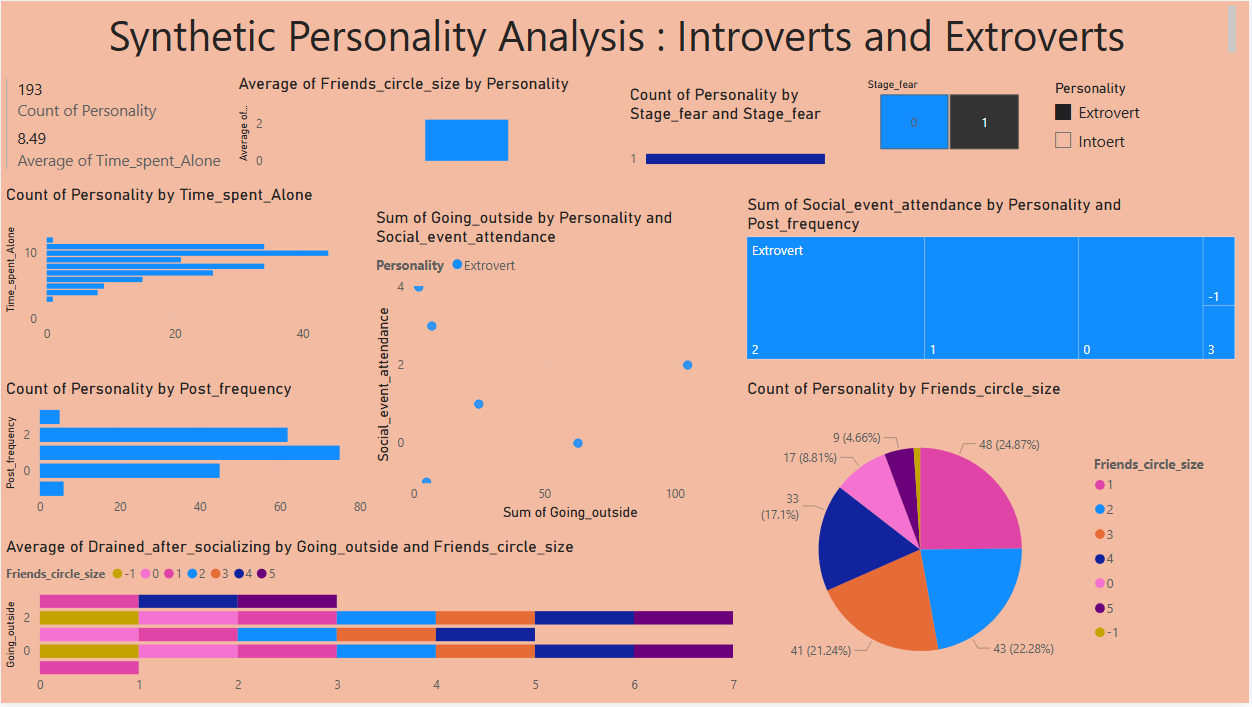

Layout of this report page (visuals, bound fields, positions):
{"tool":"powerbi","page":{"name":"Page 1","canvas":[1280,720],"ordinal":0},"visuals":[{"type":"barChart","fields":{"Category":["Extrovert vs  Introvert Persona.Going_outside"],"Series":["Extrovert vs  Introvert Persona.Friends_circle_size"],"Y":["Avg(Extrovert vs  Introvert Persona.Drained_after_socializing)"]},"box":[0,548.9,760.1,171.3],"z":0},{"type":"clusteredBarChart","fields":{"Category":["Extrovert vs  Introvert Persona.Time_spent_Alone"],"Y":["CountNonNull(Extrovert vs  Introvert Persona.Personality)"]},"box":[0,188.2,387.3,171.3],"z":1000},{"type":"pieChart","fields":{"Category":["Extrovert vs  Introvert Persona.Friends_circle_size"],"Y":["CountNonNull(Extrovert vs  Introvert Persona.Personality)"]},"box":[760.1,387.3,493.4,331.8],"z":2000},{"type":"treemap","fields":{"Details":["Extrovert vs  Introvert Persona.Post_frequency"],"Values":["Sum(Extrovert vs  Introvert Persona.Social_event_attendance)"],"Group":["Extrovert vs  Introvert Persona.Personality"]},"box":[760.1,199.1,510.3,173.7],"z":3000},{"type":"clusteredBarChart","fields":{"Category":["Extrovert vs  Introvert Persona.Post_frequency"],"Y":["CountNonNull(Extrovert vs  Introvert Persona.Personality)"]},"box":[0,387.3,380,149.6],"z":4000},{"type":"clusteredColumnChart","fields":{"Y":["Avg(Extrovert vs  Introvert Persona.Friends_circle_size)"],"Category":["Extrovert vs  Introvert Persona.Personality"]},"box":[238.9,74.8,448.8,103.8],"z":5000},{"type":"barChart","fields":{"Y":["CountNonNull(Extrovert vs  Introvert Persona.Personality)"],"Category":["Extrovert vs  Introvert Persona.Stage_fear"],"Series":["Extrovert vs  Introvert Persona.Stage_fear"]},"box":[639.4,85.7,217.2,106.2],"z":6000},{"type":"scatterChart","fields":{"X":["Sum(Extrovert vs  Introvert Persona.Going_outside)"],"Y":["Extrovert vs  Introvert Persona.Social_event_attendance"],"Series":["Extrovert vs  Introvert Persona.Personality"]},"box":[380,211.1,380,325.7],"z":7000},{"type":"multiRowCard","fields":{"Values":["CountNonNull(Extrovert vs  Introvert Persona.Personality)","Avg(Extrovert vs  Introvert Persona.Time_spent_Alone)"]},"box":[0,74.8,238.9,113.4],"z":8000},{"type":"slicer","fields":{"Values":["Extrovert vs  Introvert Persona.Personality"]},"box":[1067.6,75,151.5,88],"z":9000},{"type":"slicer","fields":{"Values":["Extrovert vs  Introvert Persona.Stage_fear"]},"box":[875.9,74.8,191.8,84.5],"z":10000},{"type":"textbox","box":[0,0,1271.1,62],"z":11000}]}

Visuals, with their boxes in screenshot pixels (x1, y1, x2, y2), scaled from the page's 1280x720 canvas onto the 1252x707 screenshot:
barChart - Extrovert vs  Introvert Persona.Going_outside x Extrovert vs  Introvert Persona.Friends_circle_size: box=[0, 539, 743, 706]
clusteredBarChart - Extrovert vs  Introvert Persona.Time_spent_Alone x CountNonNull(Extrovert vs  Introvert Persona.Personality): box=[0, 185, 379, 353]
pieChart - Extrovert vs  Introvert Persona.Friends_circle_size x CountNonNull(Extrovert vs  Introvert Persona.Personality): box=[743, 380, 1226, 706]
treemap - Extrovert vs  Introvert Persona.Post_frequency x Sum(Extrovert vs  Introvert Persona.Social_event_attendance): box=[743, 196, 1243, 366]
clusteredBarChart - Extrovert vs  Introvert Persona.Post_frequency x CountNonNull(Extrovert vs  Introvert Persona.Personality): box=[0, 380, 372, 527]
clusteredColumnChart - Avg(Extrovert vs  Introvert Persona.Friends_circle_size) x Extrovert vs  Introvert Persona.Personality: box=[234, 73, 673, 175]
barChart - CountNonNull(Extrovert vs  Introvert Persona.Personality) x Extrovert vs  Introvert Persona.Stage_fear: box=[625, 84, 838, 188]
scatterChart - Sum(Extrovert vs  Introvert Persona.Going_outside) x Extrovert vs  Introvert Persona.Social_event_attendance: box=[372, 207, 743, 527]
multiRowCard - CountNonNull(Extrovert vs  Introvert Persona.Personality) x Avg(Extrovert vs  Introvert Persona.Time_spent_Alone): box=[0, 73, 234, 185]
slicer - Extrovert vs  Introvert Persona.Personality: box=[1044, 74, 1192, 160]
slicer - Extrovert vs  Introvert Persona.Stage_fear: box=[857, 73, 1044, 156]
textbox: box=[0, 0, 1243, 61]
